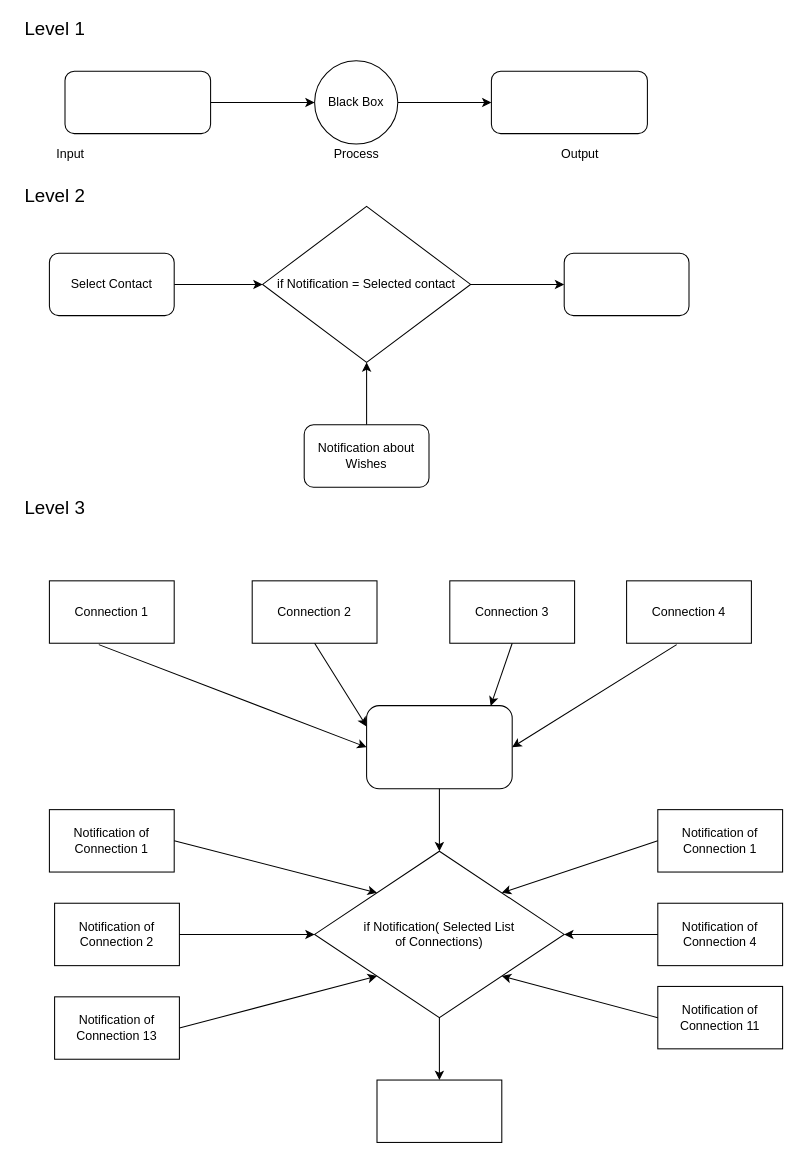
Some shapes in this 801 by 1161 pixel diagram are drawn without their labels. The centre of each missing label's shape, as x and y in pixels:
"Message : Congrats on New Role (Connection#)" goes at point 439,1110.
"Message : Congrats on the New role" goes at point 626,284.
"Output Wishes" goes at point 568,102.
"Select Contacts" goes at point 137,102.
"Selected list of Connections" goes at point 439,747.
